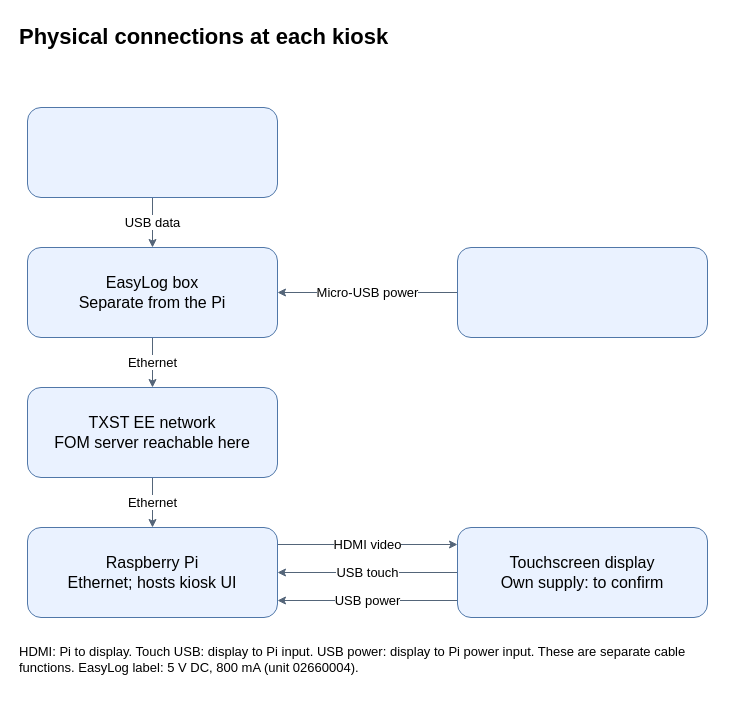
Image size: 734x710. Some labels were removed from this diagram. Here are the shapes that lost their labels. From the top down, the centre of each, then its label:
At point 152,152: "RFID scanner".
At point 582,292: "EasyLog power brick 5 V DC; micro-USB".
